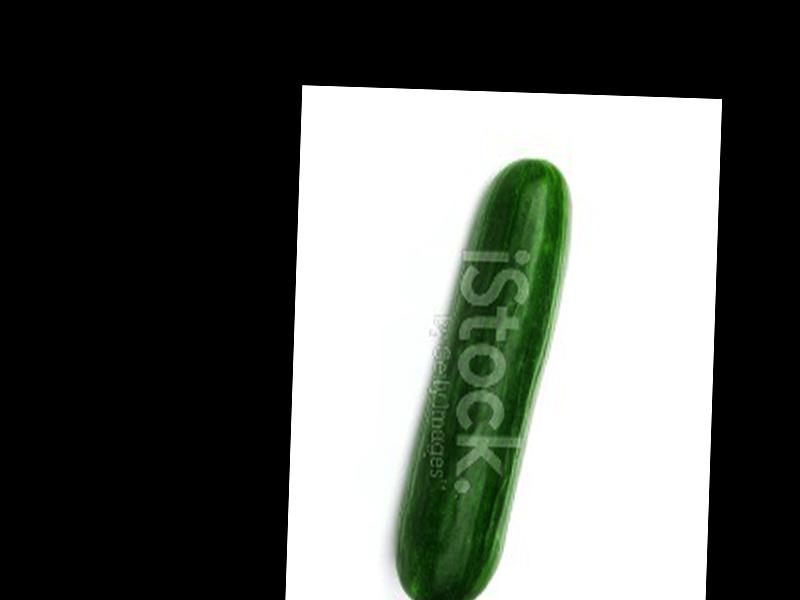Cucumber: (395, 153, 571, 600)
